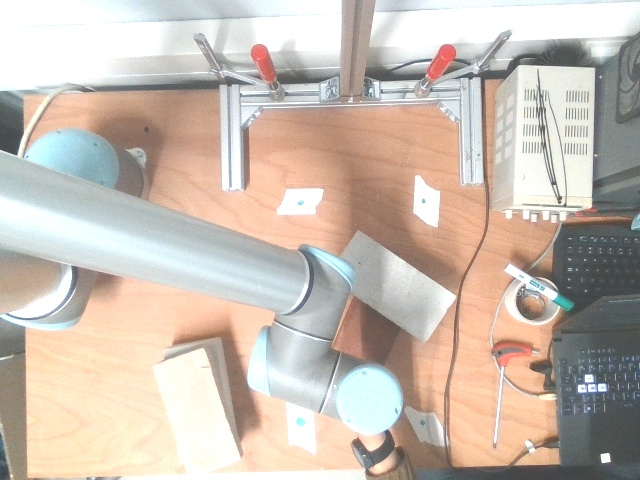brick: (153, 348, 242, 475)
